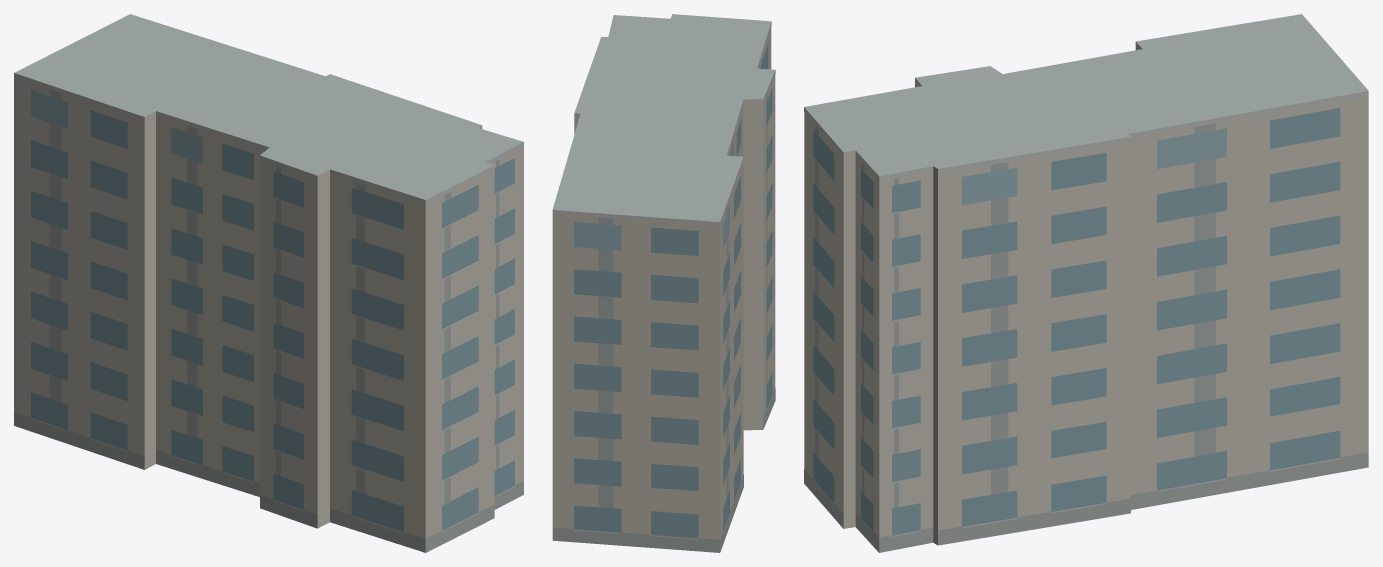
File: survey-upis-32916797.glb
3 renders of one model, left to right at view 1: azimuth 30°, elevation 25°; view 2: azimuth 150°, elevation 25°; view 3: azimuth 270°, elevation 25°, orthographic. The views are drawn at different scales.
Visible parts, largest first — view 1: survey-upis-32916797.tmp; view 2: survey-upis-32916797.tmp; view 3: survey-upis-32916797.tmp.
Boxes of the visible parts, <box> form: survey-upis-32916797.tmp: <box>14,14,523,552</box>; survey-upis-32916797.tmp: <box>552,14,775,552</box>; survey-upis-32916797.tmp: <box>804,14,1368,552</box>.
Size of the model in its own units: 17.34 by 18.75 by 25.49.
